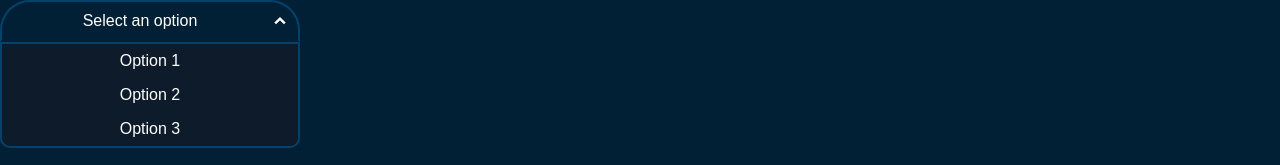
Dropdown Component › closes when clicking outside
Expected: the list is shown, [0,42,300,148]
Press the mouse on the element showing "Select an option Option 1 Option 2 Option 3" at (640, 21), box [0,0,1279,42]
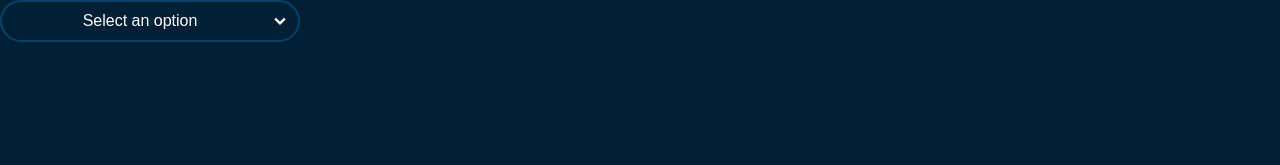
Now the list is gone
